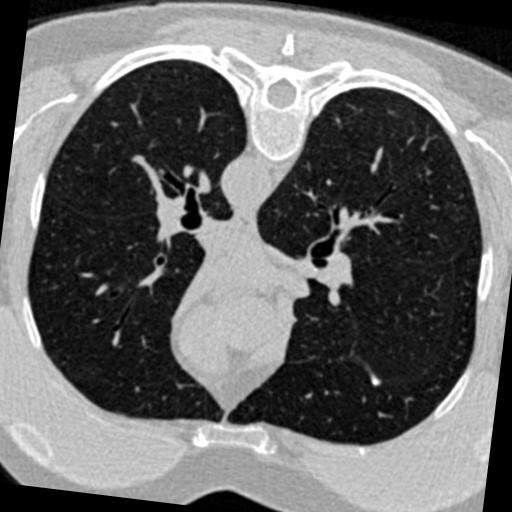nodule: (370, 376, 383, 389)
